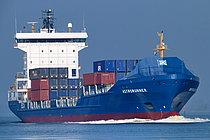Ship: (6, 6, 204, 121)
